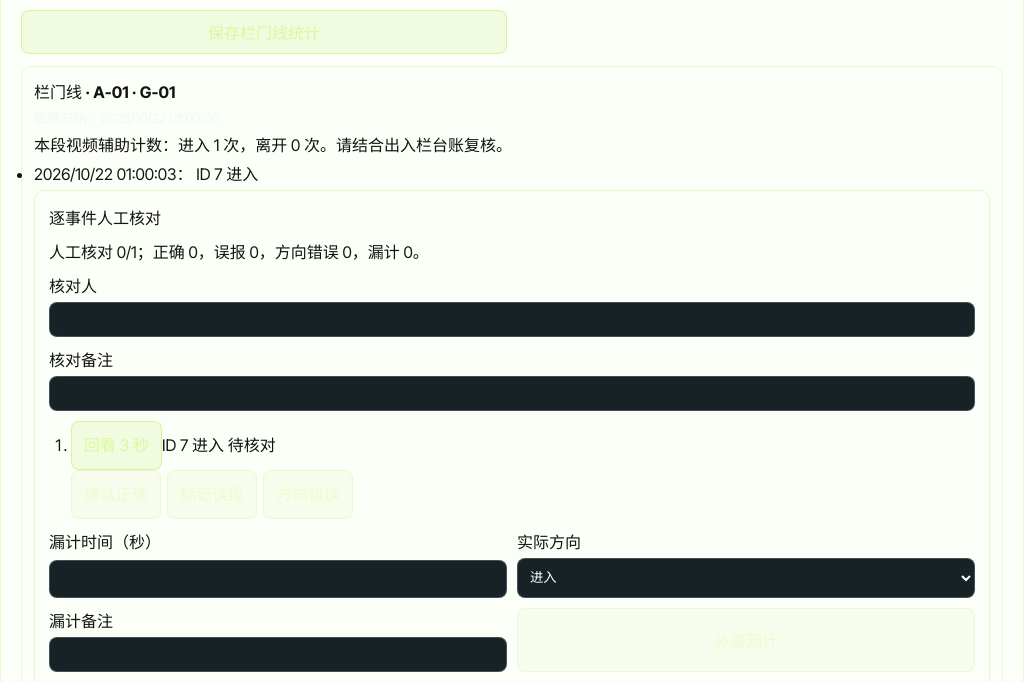
it: reviews a gate crossing and adds a missed event from the video panel
Earlier steps of the test are not shown.
(page scrolled)
Expected: the text "人工核对 0/1；正确 0，误报 0，方向错误 0，漏计 0。" is shown, 49,242 -> 429,262
Type "张三" into the field labelled "核对人".
click(512, 320); type("张三")  # box 49,302 -> 975,337
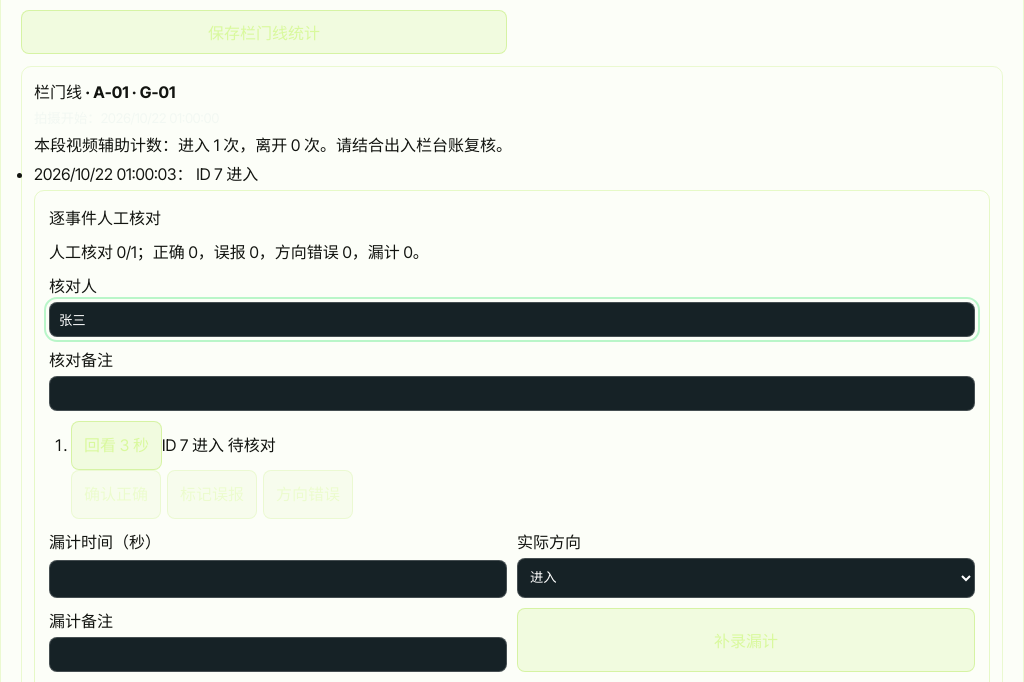
Type "完整回看确认" into the field labelled "核对备注".
click(512, 394); type("完整回看确认")  # box 49,376 -> 975,411
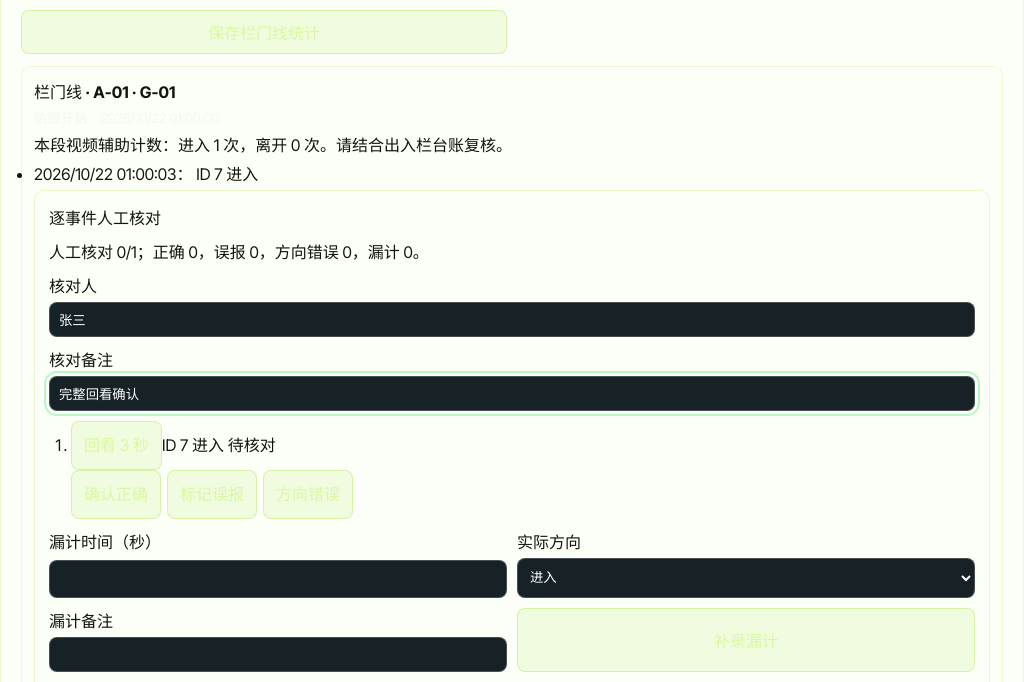
Click the button "确认正确".
click(116, 494)  # box 71,470 -> 161,519
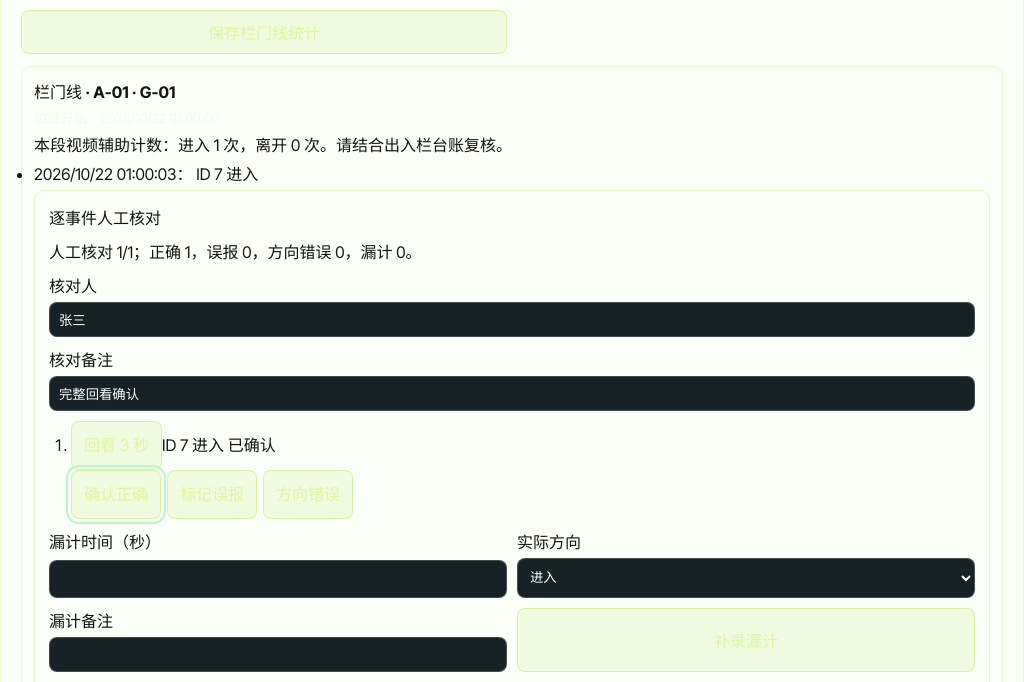
Now the text "人工核对 1/1；正确 1，误报 0，方向错误 0，漏计 0。" is shown, box 49,242 -> 422,262
Type "5" into the number field labelled "漏计时间（秒）".
click(278, 579); type("5")  # box 49,560 -> 507,598
Type "遮挡后进入" into the field labelled "漏计备注".
click(278, 654); type("遮挡后进入")  # box 49,637 -> 507,672
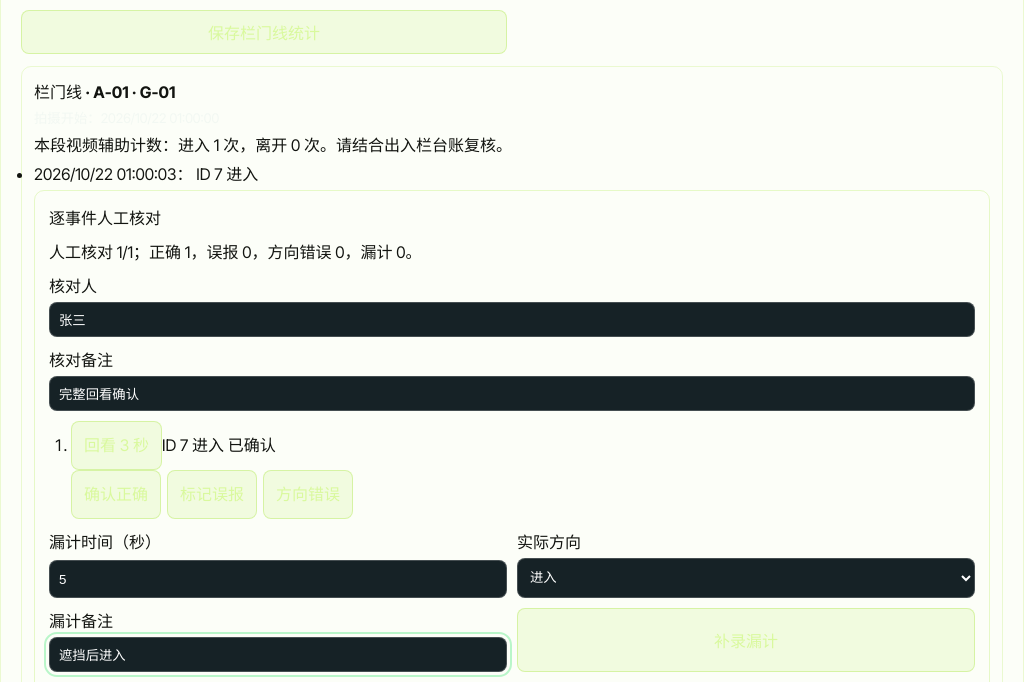
Click the button "补录漏计".
click(746, 640)  # box 517,608 -> 975,672
(page scrolled)
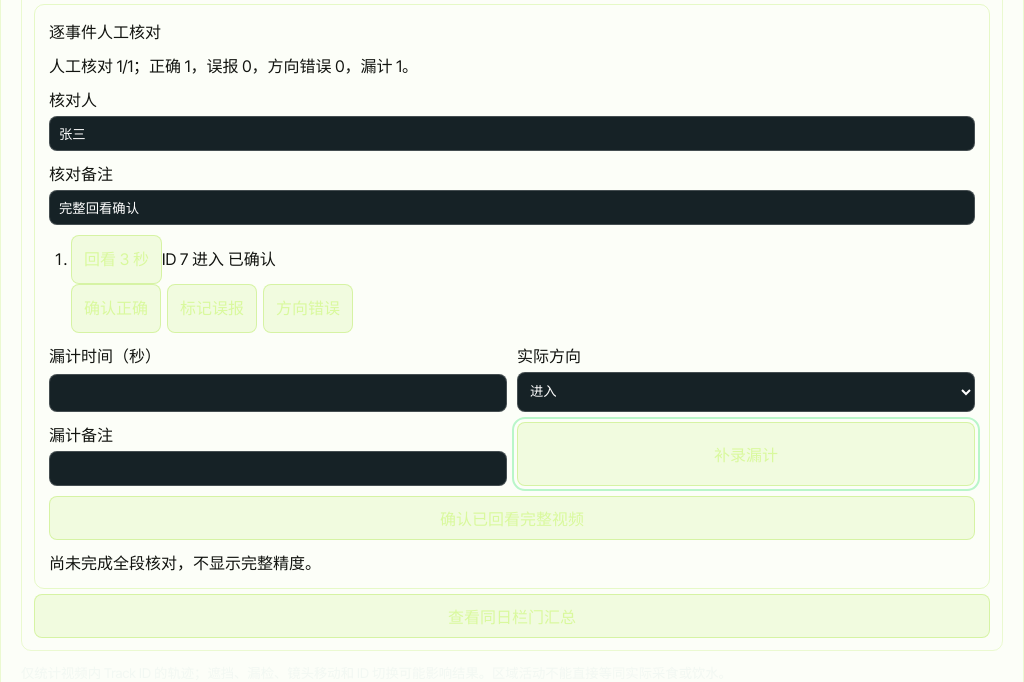
Now the text "人工核对 1/1；正确 1，误报 0，方向错误 0，漏计 1。" is shown, box 49,56 -> 418,76
Click the button "确认已回看完整视频".
click(512, 518)  # box 49,496 -> 975,540
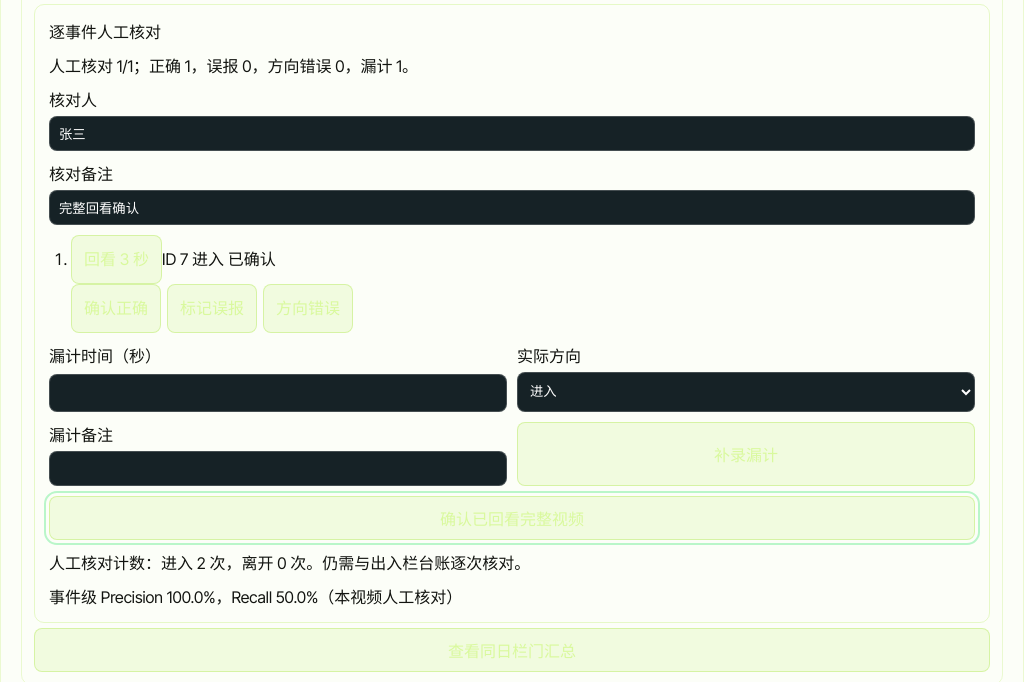
Now the text "人工核对计数：进入 2 次，离开 0 次。仍需与出入栏台账逐次核对。" is shown, box 49,553 -> 530,573
